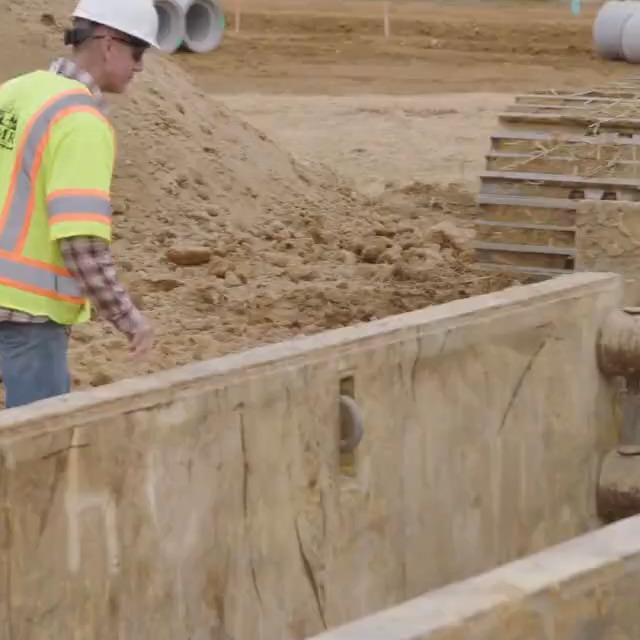Hardhat: (73, 0, 160, 46)
Person: (0, 0, 159, 402), (92, 34, 134, 96)
Safety Vest: (0, 65, 120, 325)
wheel loader: (473, 0, 640, 285)
